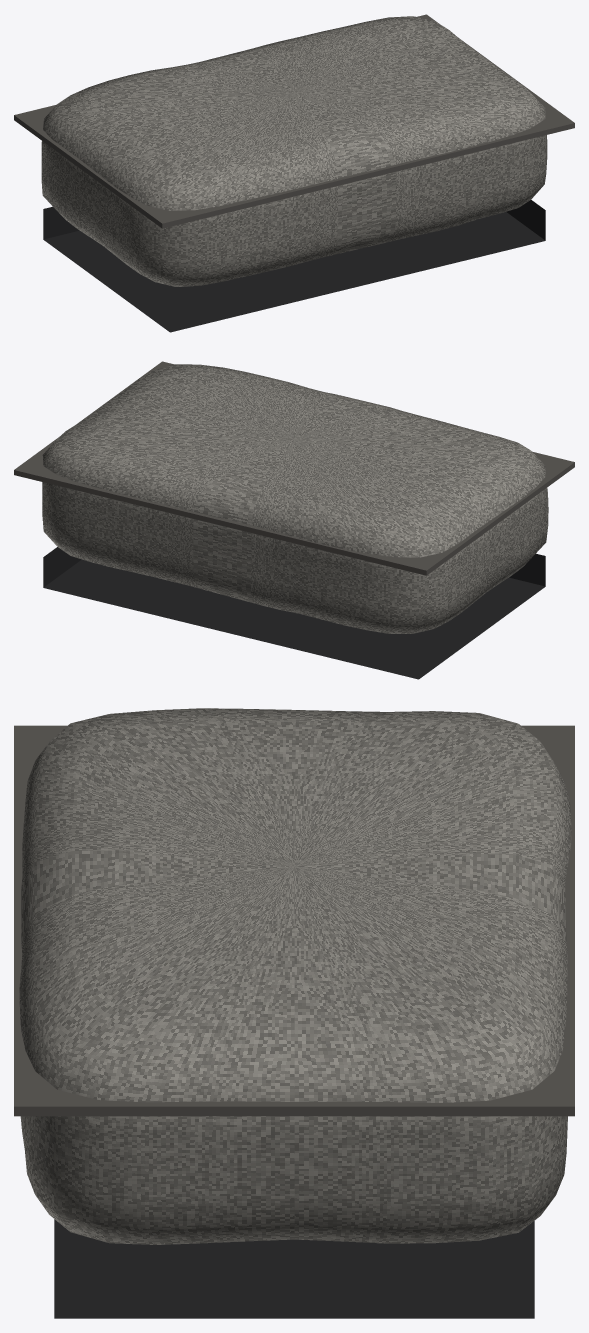
The model's file is chaise5.glb.
3 renders of one model, top to bottom at view 1: azimuth 30°, elevation 25°; view 2: azimuth 150°, elevation 25°; view 3: azimuth 270°, elevation 25°, orthographic. The views are drawn at different scales.
Visible parts, largest first — view 1: root; view 2: root; view 3: root.
Part boxes in pixels (box(x1,y1,x2,y2)): root: box(14, 14, 574, 332); root: box(14, 361, 574, 679); root: box(14, 708, 574, 1318).
Size of the model in its own units: 1.29 by 0.4416 by 0.8047.
Materials: 3 (1 with a texture image).
